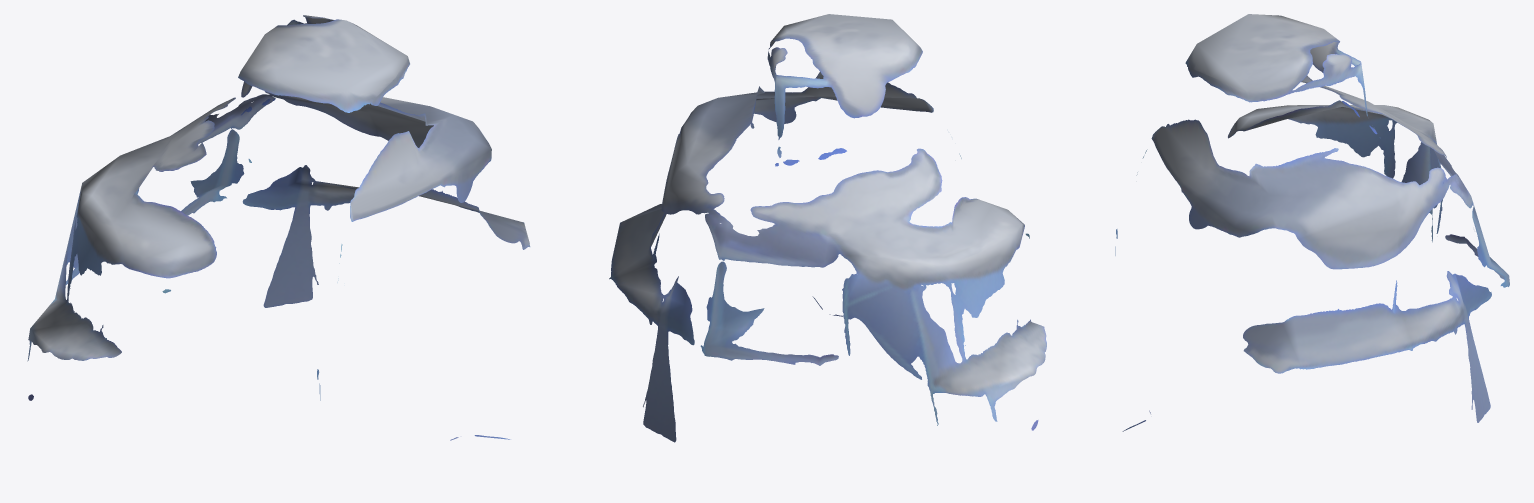
The model's file is bing_box01.glb.
3 views of the same model, side by side, from view 1: azimuth 30°, elevation 25°; view 2: azimuth 150°, elevation 25°; view 3: azimuth 270°, elevation 25° (orthographic). The views are drawn at different scales.
Size of the model in its own units: 3.07 by 2.25 by 2.45.
2 materials, 2 textured.
